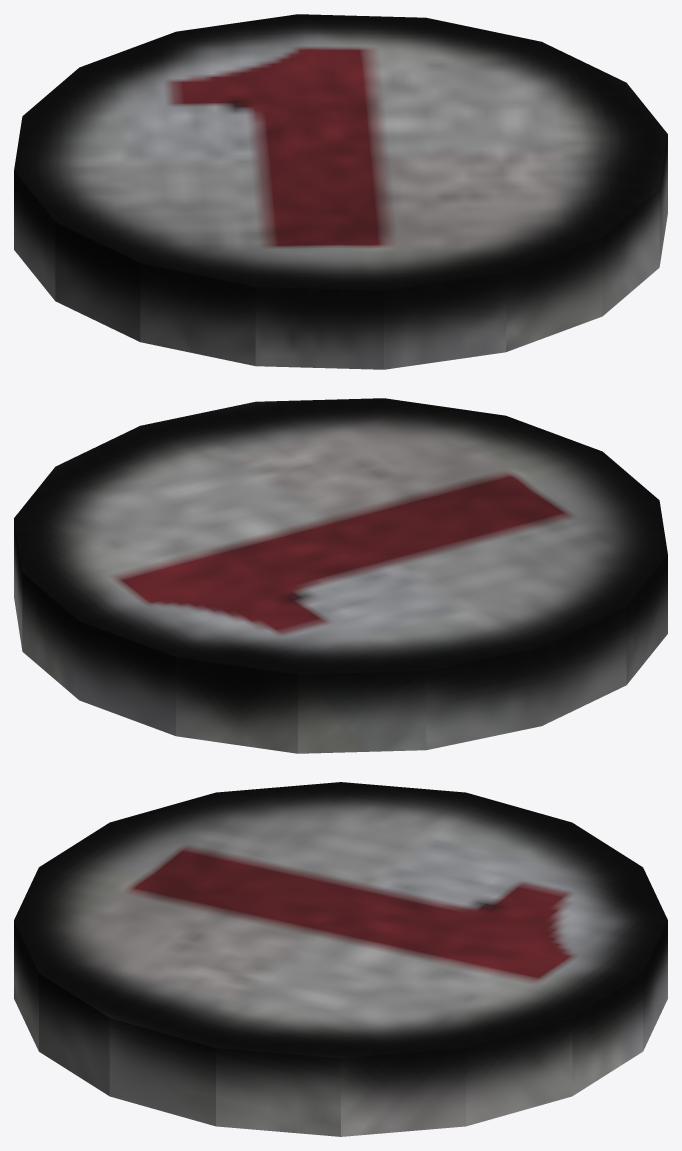
The model's file is button_1.fbx.
3 renders of one model, top to bottom at view 1: azimuth 30°, elevation 25°; view 2: azimuth 150°, elevation 25°; view 3: azimuth 270°, elevation 25°, orthographic.
Visible parts, largest first — view 1: Circle.001; view 2: Circle.001; view 3: Circle.001.
Boxes of the visible parts, x1=… form: Circle.001: x1=14, y1=14, x2=667, y2=369; Circle.001: x1=14, y1=398, x2=667, y2=753; Circle.001: x1=14, y1=782, x2=667, y2=1136.
Size of the model in its own units: 200 by 26.5 by 200.
Materials: 1 (1 with a texture image).
